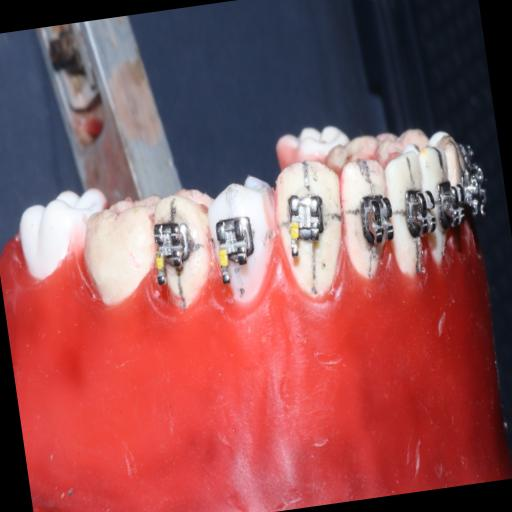correct_brace: (201, 170, 286, 314), (210, 208, 264, 288)
incorrect_brace: (280, 187, 334, 265)
